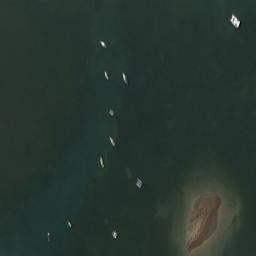boat: (229, 12, 240, 28), (134, 176, 144, 190), (122, 70, 128, 84), (110, 228, 118, 238), (65, 217, 72, 228), (109, 135, 116, 145), (103, 69, 109, 80), (99, 154, 104, 167), (108, 107, 115, 116), (99, 39, 106, 47), (46, 229, 50, 241)
